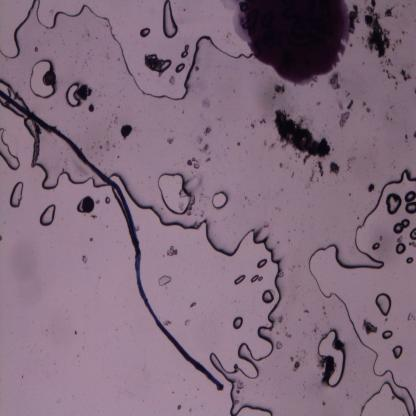Air bubble: (190, 213, 284, 415), (307, 242, 386, 378), (114, 29, 248, 106), (34, 0, 132, 56), (352, 169, 416, 249), (35, 144, 97, 191), (359, 365, 416, 415), (0, 1, 35, 60), (316, 329, 347, 388), (158, 172, 192, 216), (29, 56, 56, 100), (0, 128, 20, 170), (162, 0, 178, 41), (373, 292, 392, 316), (63, 82, 80, 106), (8, 182, 24, 207), (39, 202, 55, 227), (385, 193, 402, 216), (403, 190, 416, 215), (211, 191, 228, 209), (392, 218, 410, 235), (262, 289, 274, 304), (391, 345, 403, 359), (160, 59, 172, 73), (180, 43, 190, 59), (233, 274, 246, 286), (232, 316, 243, 330), (256, 257, 267, 269), (381, 329, 392, 341), (396, 242, 406, 255), (140, 27, 151, 38), (250, 274, 263, 283), (176, 62, 185, 74), (370, 242, 380, 251), (408, 228, 416, 239), (406, 256, 414, 264), (105, 196, 111, 204)
Background material: (0, 237, 48, 311), (272, 108, 333, 165), (362, 0, 394, 68), (194, 124, 212, 162), (338, 98, 354, 130), (142, 50, 161, 75), (77, 82, 92, 103), (362, 318, 378, 336), (78, 245, 89, 270), (398, 67, 414, 83), (347, 151, 358, 173), (118, 124, 133, 140), (329, 71, 341, 91), (158, 273, 172, 288), (272, 84, 286, 98), (382, 68, 396, 82), (233, 379, 245, 395), (187, 157, 200, 171), (307, 168, 316, 188), (316, 158, 324, 180), (290, 358, 300, 374), (166, 244, 178, 257), (329, 161, 341, 174), (361, 99, 370, 115), (384, 5, 395, 18), (367, 181, 375, 196), (166, 136, 176, 146), (168, 75, 176, 87), (275, 340, 284, 350), (401, 134, 411, 142), (258, 118, 268, 126), (236, 137, 242, 148), (87, 104, 95, 112), (190, 300, 197, 309), (278, 315, 284, 324), (306, 306, 308, 315)
Cellulose filter fibre: (28, 119, 39, 167)
Cotton: (0, 90, 224, 391)
Diatom: (43, 70, 57, 86), (82, 197, 95, 214)
Pen: (224, 0, 349, 85)
